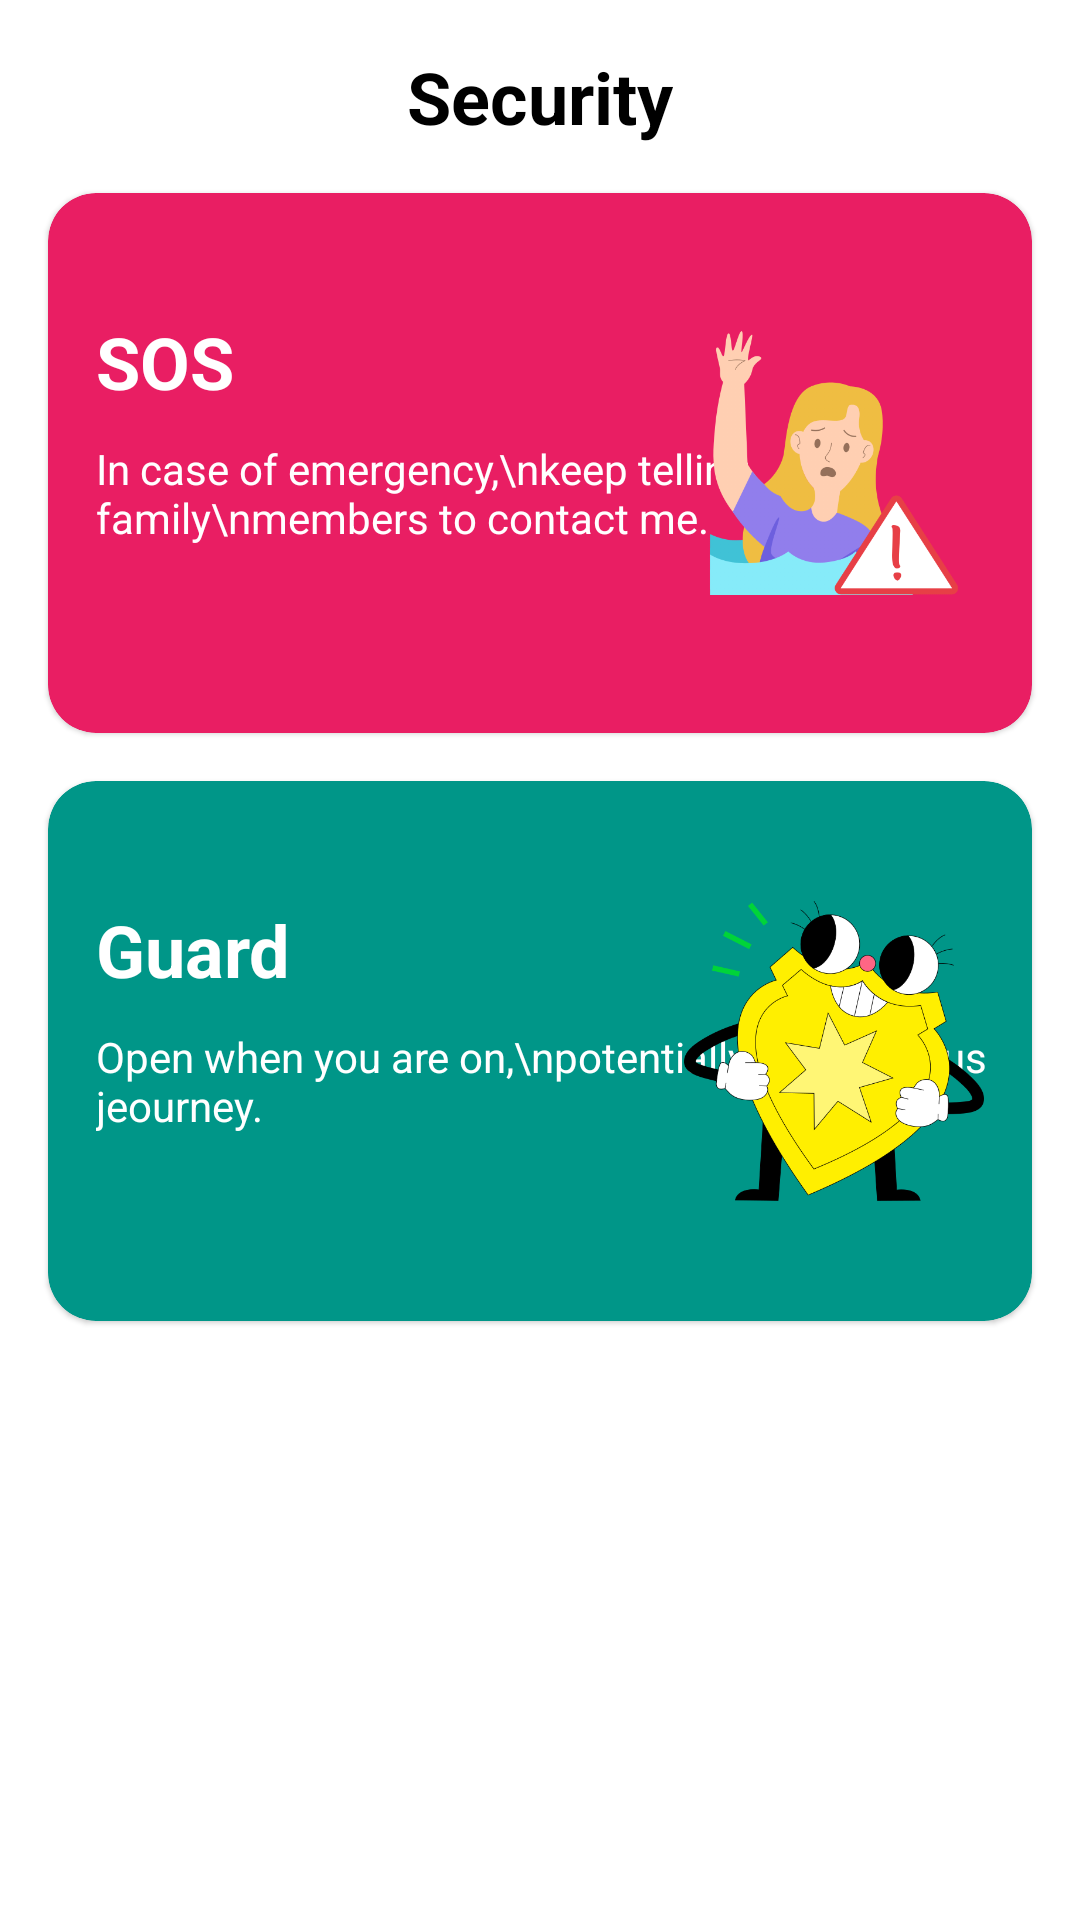

Named icons in this screenshot (1080 x 1920) and their centers, (x=x, y=y):
police: (x=834, y=1051)
sos: (x=822, y=463)
